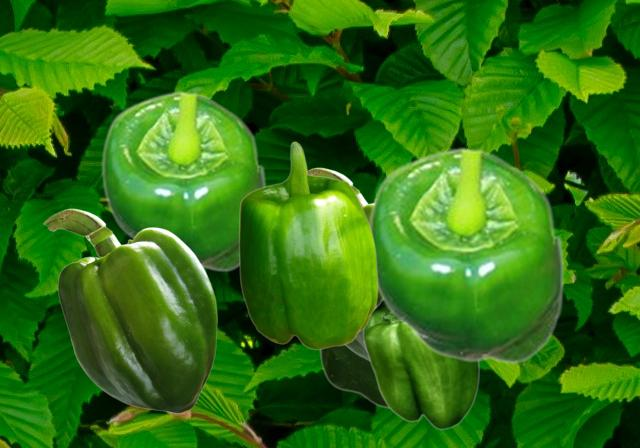bell_pepper: (366, 146, 564, 363), (43, 208, 216, 412), (100, 90, 266, 271), (238, 141, 377, 349), (362, 299, 479, 429), (309, 167, 380, 361), (319, 346, 387, 408)
